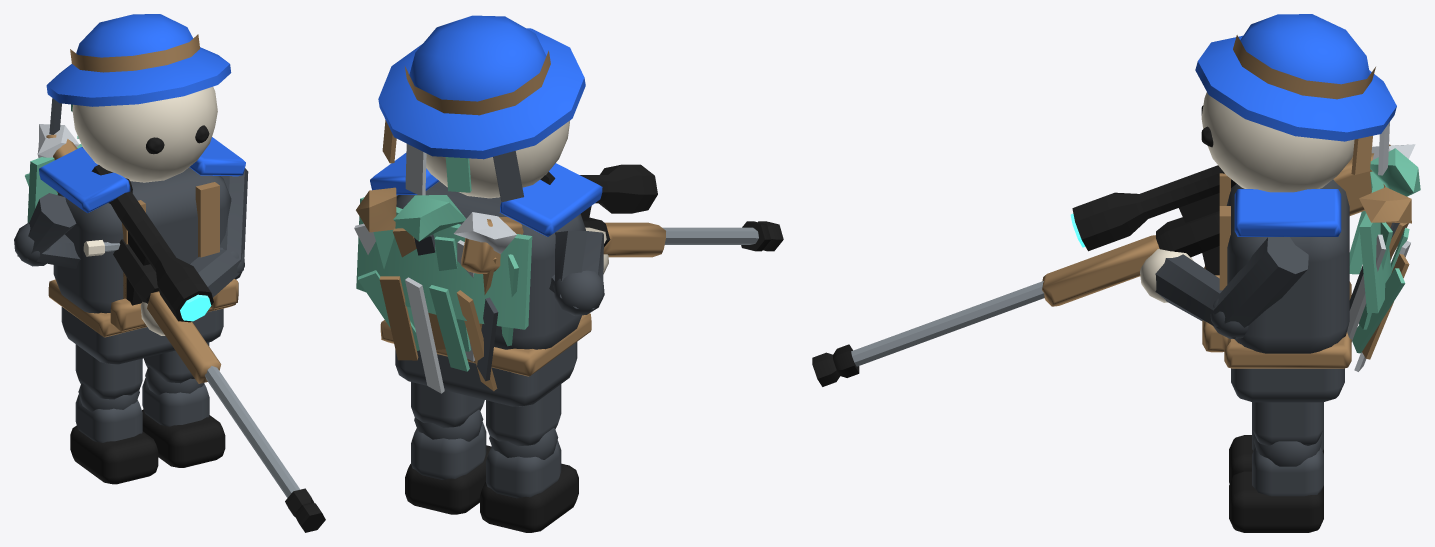
The model's file is sniper.glb.
The picture shows the model from 3 angles, left to right: view 1: azimuth 30°, elevation 25°; view 2: azimuth 150°, elevation 25°; view 3: azimuth 270°, elevation 25°; orthographic projection. The views are drawn at different scales.
Visible parts, largest first — view 1: hat__M_Team, turret__M_SmokePlastic, head__M_CreamPlastic, barrel__M_Licorice, arms__M_SmokePlastic, turret__M_Team, hips__M_SmokePlastic, knee_r__M_Licorice, turret__M_Kraft, knee_l__M_Licorice, knee_r__M_SmokePlastic, knee_l__M_SmokePlastic (+10 smaller); view 2: hat__M_Team, pack__M_Ore_Mint, turret__M_SmokePlastic, pack__M_Kraft, turret__M_Team, hips__M_SmokePlastic, arms__M_SmokePlastic, barrel__M_Licorice, pack__M_Foil, knee_r__M_SmokePlastic, knee_l__M_SmokePlastic, knee_r__M_Licorice (+12 smaller); view 3: hat__M_Team, turret__M_SmokePlastic, barrel__M_Licorice, head__M_CreamPlastic, arms__M_SmokePlastic, pack__M_Ore_Mint, barrel__M_Kraft, turret__M_Team, knee_l__M_Licorice, knee_l__M_SmokePlastic, hips__M_SmokePlastic, barrel__M_SpringSteel (+8 smaller).
Boxes of the visible parts, left/top/right/bottom form: hat__M_Team: left=46, top=14, right=231, bottom=106; turret__M_SmokePlastic: left=53, top=167, right=231, bottom=313; head__M_CreamPlastic: left=72, top=86, right=217, bottom=182; barrel__M_Licorice: left=91, top=165, right=325, bottom=532; arms__M_SmokePlastic: left=14, top=168, right=248, bottom=297; turret__M_Team: left=39, top=137, right=245, bottom=213; hips__M_SmokePlastic: left=61, top=307, right=223, bottom=364; knee_r__M_Licorice: left=70, top=425, right=158, bottom=484; turret__M_Kraft: left=110, top=182, right=238, bottom=331; knee_l__M_Licorice: left=142, top=409, right=225, bottom=467; knee_r__M_SmokePlastic: left=75, top=383, right=142, bottom=442; knee_l__M_SmokePlastic: left=142, top=367, right=209, bottom=426; hat__M_Team: left=378, top=15, right=585, bottom=159; pack__M_Ore_Mint: left=356, top=195, right=532, bottom=371; turret__M_SmokePlastic: left=396, top=181, right=585, bottom=349; pack__M_Kraft: left=356, top=187, right=497, bottom=391; turret__M_Team: left=370, top=153, right=602, bottom=236; hips__M_SmokePlastic: left=395, top=342, right=577, bottom=406; arms__M_SmokePlastic: left=396, top=195, right=604, bottom=315; barrel__M_Licorice: left=540, top=164, right=783, bottom=251; pack__M_Foil: left=354, top=212, right=516, bottom=393; knee_r__M_SmokePlastic: left=486, top=428, right=561, bottom=498; knee_l__M_SmokePlastic: left=411, top=409, right=486, bottom=479; knee_r__M_Licorice: left=480, top=463, right=578, bottom=532; hat__M_Team: left=1195, top=14, right=1396, bottom=141; turret__M_SmokePlastic: left=1226, top=179, right=1349, bottom=353; barrel__M_Licorice: left=812, top=165, right=1236, bottom=386; head__M_CreamPlastic: left=1201, top=92, right=1354, bottom=192; arms__M_SmokePlastic: left=1155, top=237, right=1308, bottom=338; pack__M_Ore_Mint: left=1349, top=148, right=1420, bottom=353; barrel__M_Kraft: left=1042, top=144, right=1390, bottom=306; turret__M_Team: left=1234, top=189, right=1341, bottom=236; knee_l__M_Licorice: left=1229, top=471, right=1323, bottom=532; knee_l__M_SmokePlastic: left=1252, top=436, right=1323, bottom=496; hips__M_SmokePlastic: left=1231, top=368, right=1344, bottom=402; barrel__M_SpringSteel: left=851, top=281, right=1044, bottom=366.
Size of the model in its own units: 0.291 by 0.5595 by 0.64.
